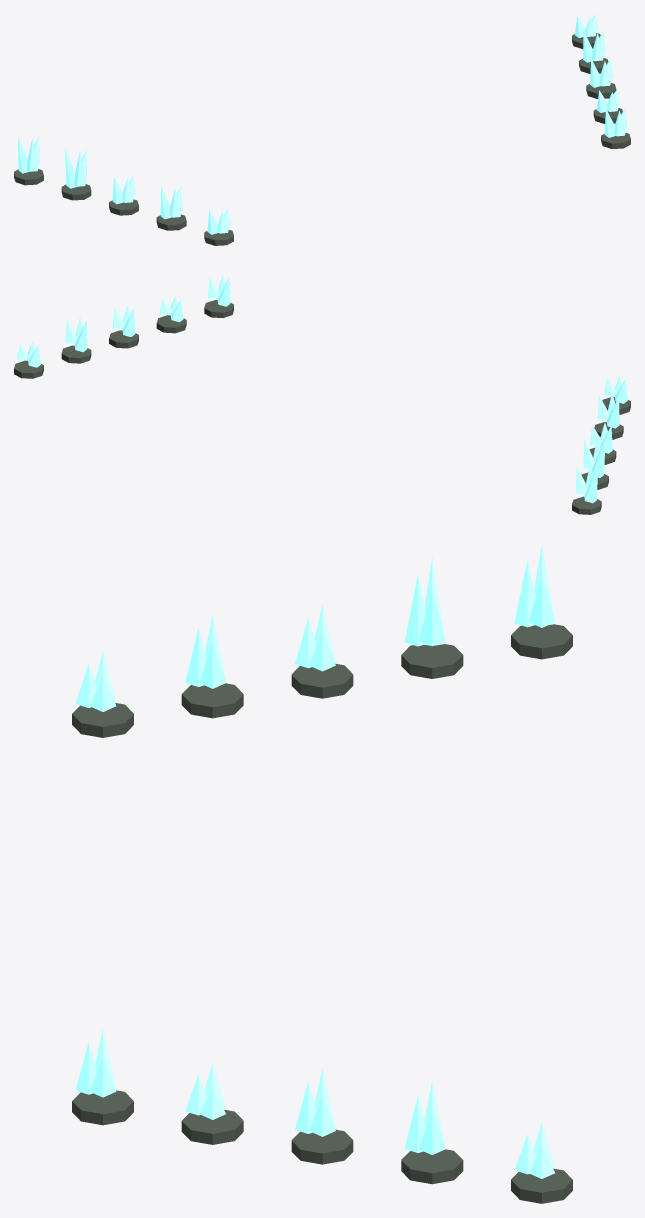
The model's file is clock_ruins_infinite.glb.
3 renders of one model, top to bottom at view 1: azimuth 30°, elevation 25°; view 2: azimuth 150°, elevation 25°; view 3: azimuth 270°, elevation 25°, orthographic. The views are drawn at different scales.
Parts seen in each view (by area): view 1: Energy; view 2: Energy; view 3: Energy.
Boxes of the visible parts, x1,y1,x2,y2 form: Energy: (14,14,630,245); Energy: (14,274,630,514); Energy: (72,544,572,1203).
Bounding box in the file's own units: 20.92 × 1.68 × 7.76.
